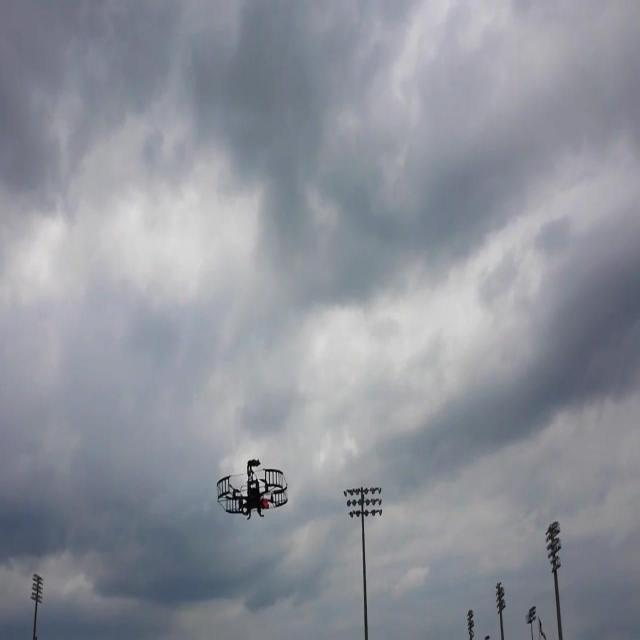UAV: (216, 459, 288, 521)
